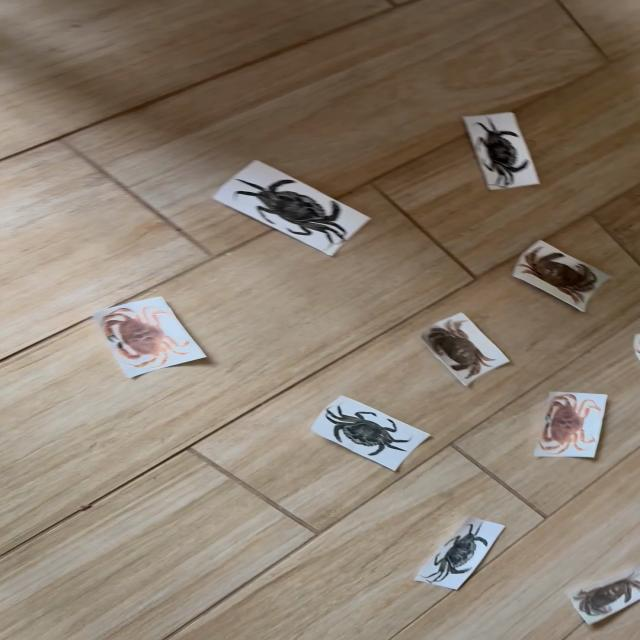egc: (312, 396, 428, 471), (233, 179, 347, 254), (415, 518, 503, 589), (476, 117, 528, 188)
